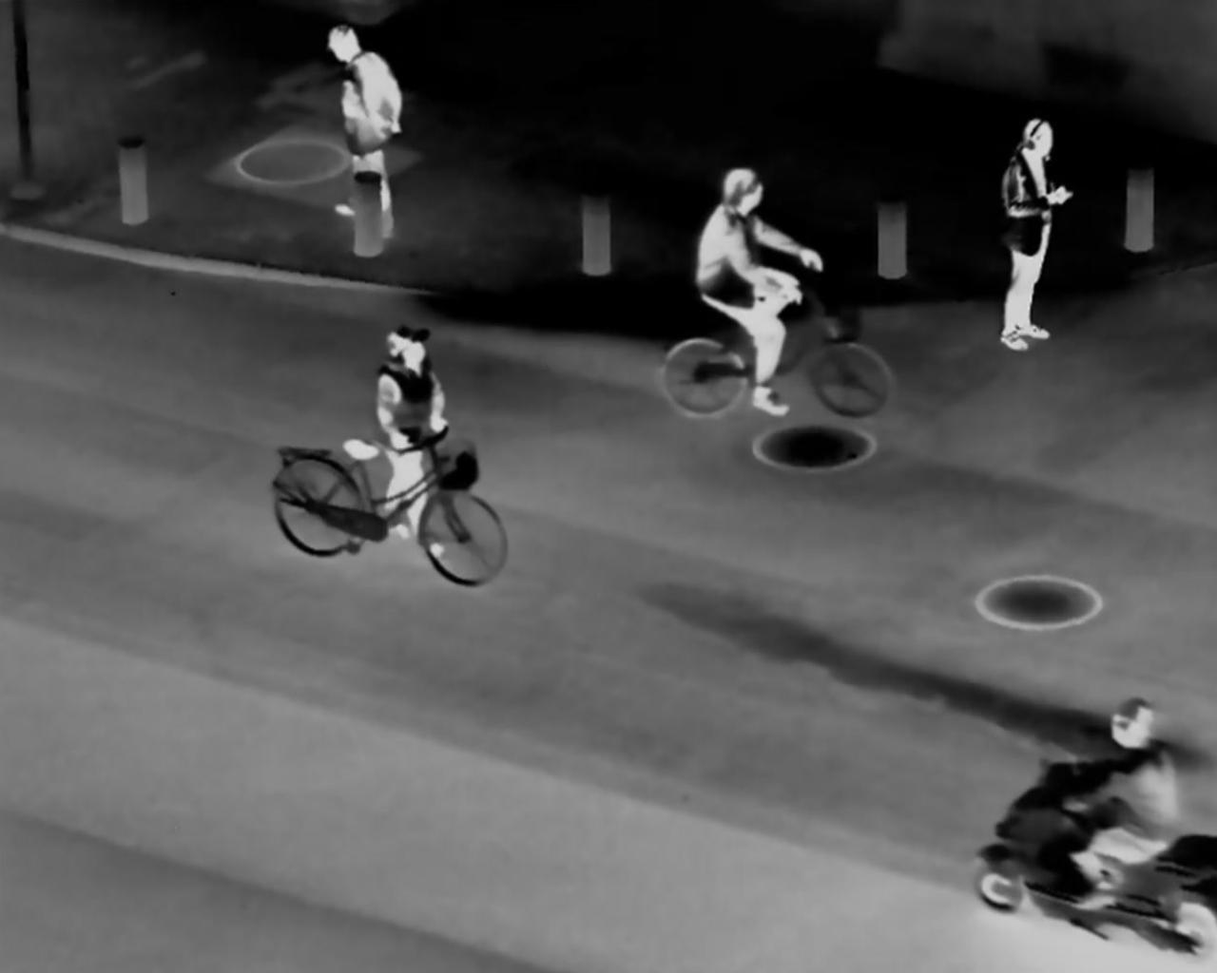person: (692, 157, 816, 429), (1078, 696, 1187, 929), (314, 22, 408, 249), (362, 315, 445, 558), (992, 110, 1056, 358)
